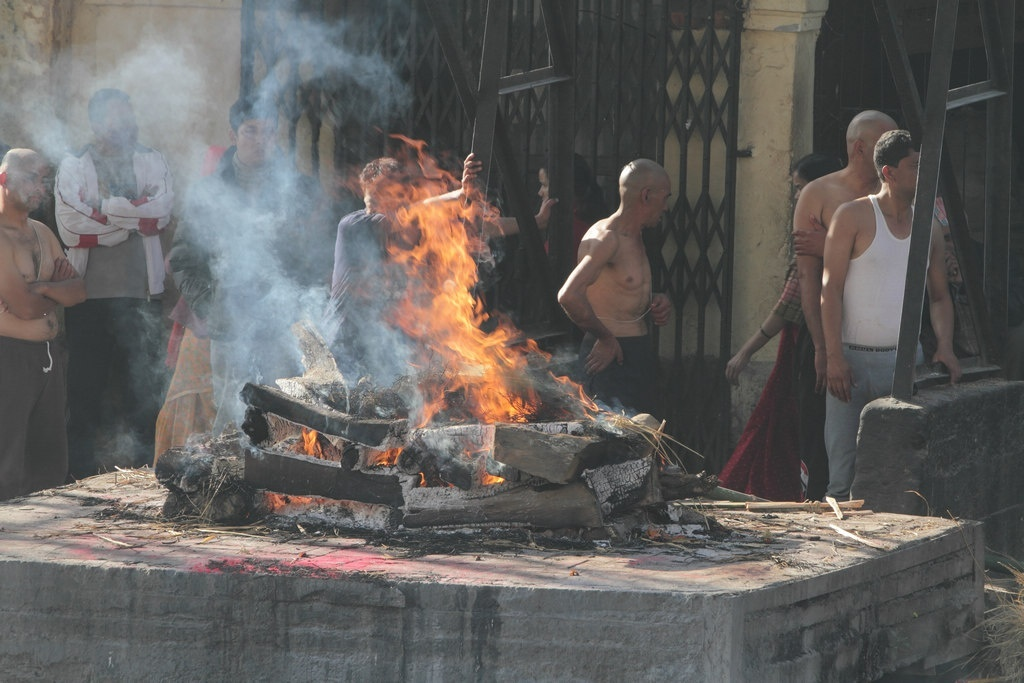fire: (347, 135, 605, 432)
